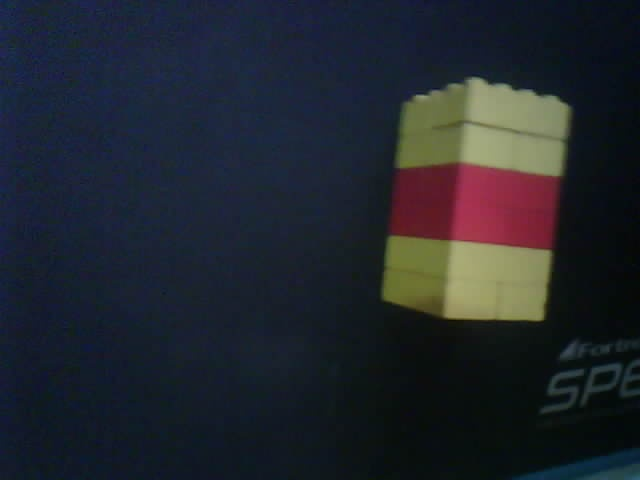lego: (379, 75, 571, 325)
